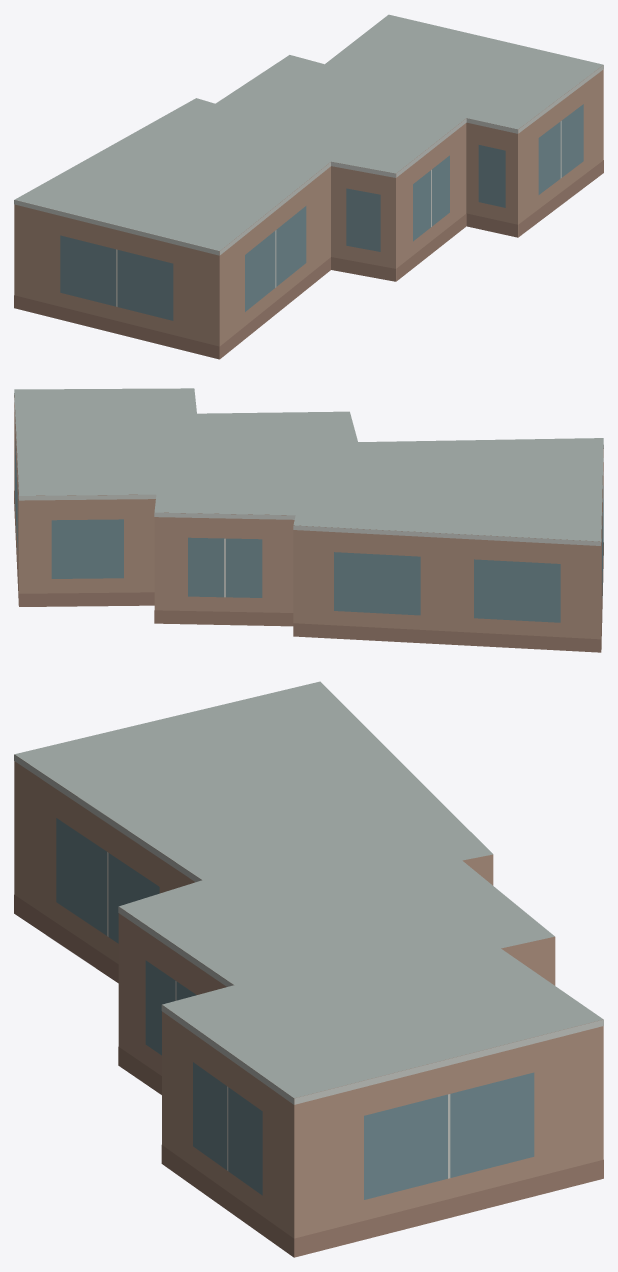
Rendered from survey-upis-32635759.glb.
The picture shows the model from 3 angles, top to bottom: view 1: azimuth 30°, elevation 25°; view 2: azimuth 150°, elevation 25°; view 3: azimuth 270°, elevation 25°; orthographic projection. The views are drawn at different scales.
Parts seen in each view (by area): view 1: survey-upis-32635759.tmp; view 2: survey-upis-32635759.tmp; view 3: survey-upis-32635759.tmp.
Boxes of the visible parts, x1=… form: survey-upis-32635759.tmp: x1=14, y1=14, x2=603, y2=359; survey-upis-32635759.tmp: x1=14, y1=388, x2=603, y2=652; survey-upis-32635759.tmp: x1=14, y1=681, x2=603, y2=1257.
Size of the model in its own units: 17.15 by 3.05 by 10.25.
